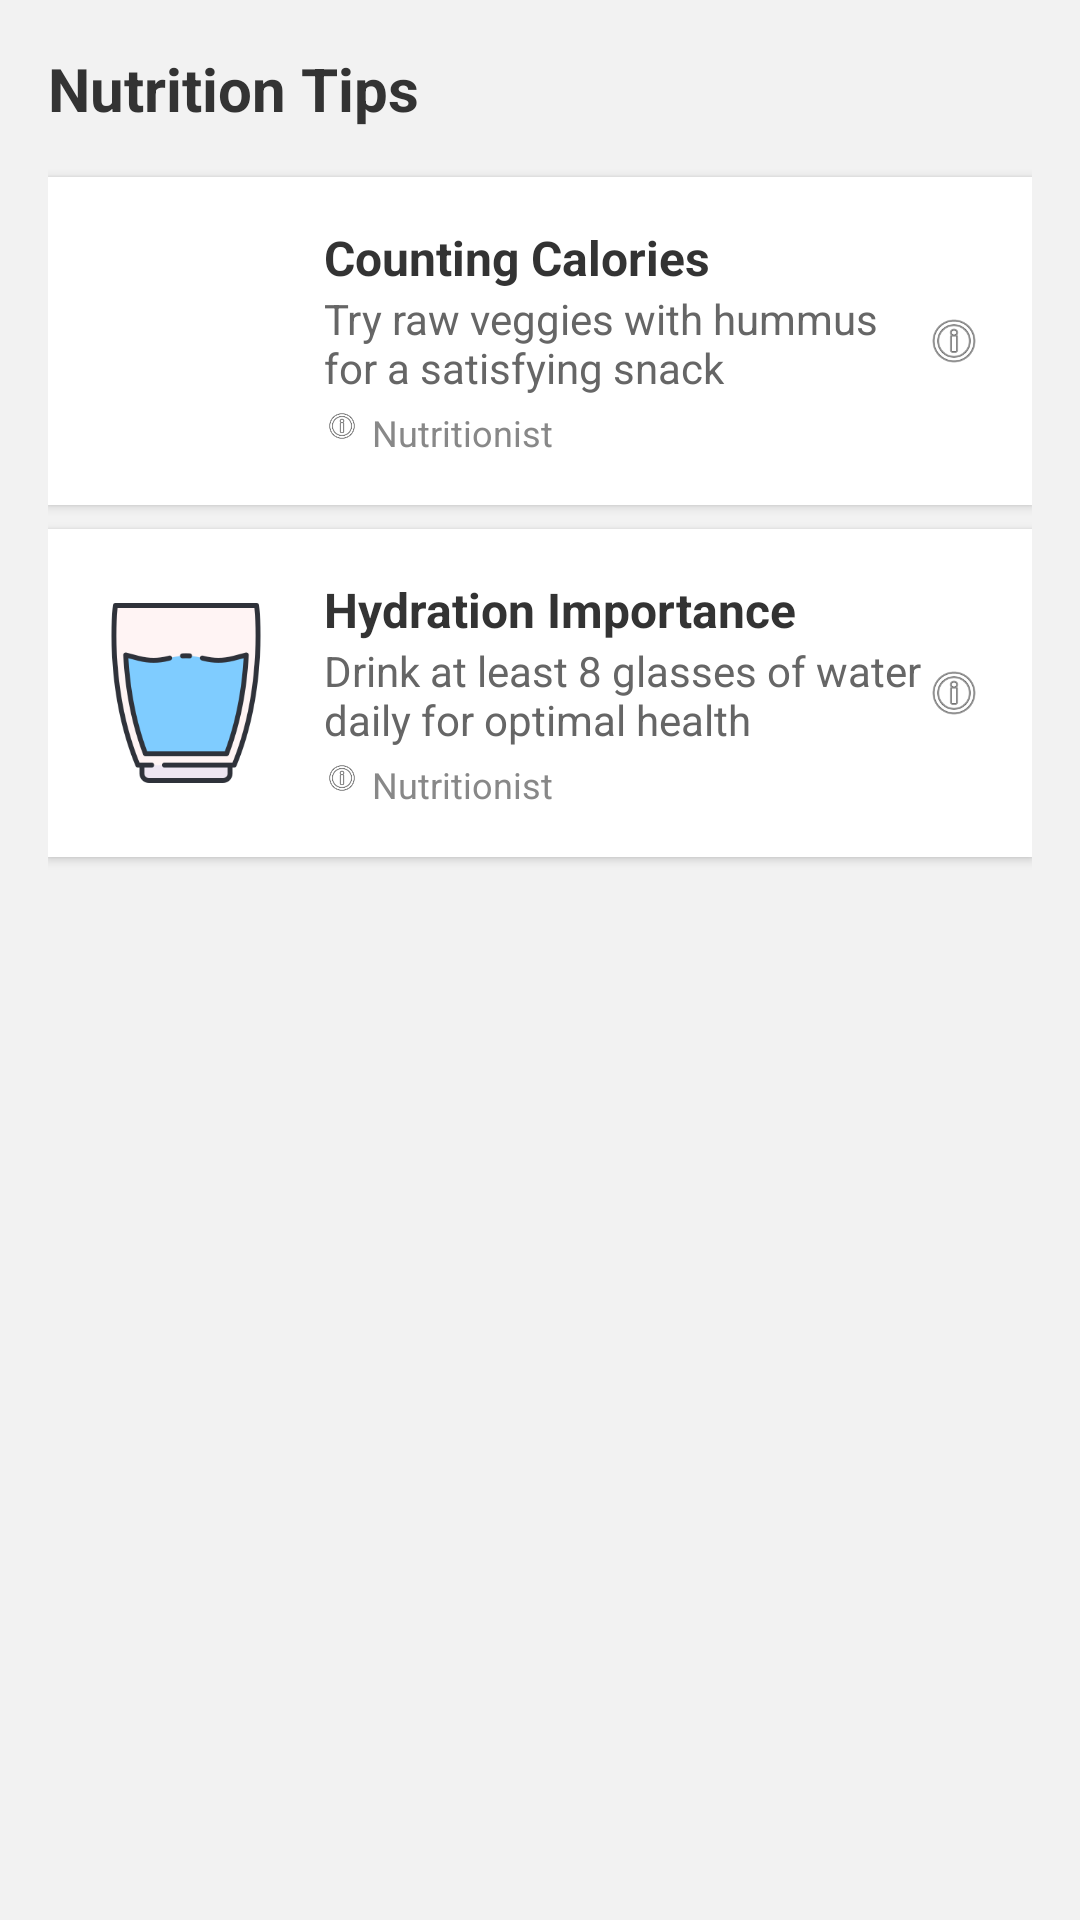

Point at icon controls on the screen. Image size 1080x1920, points as point (x, y).
info details: point (954, 341), point (342, 426), point (954, 693), point (342, 778)
